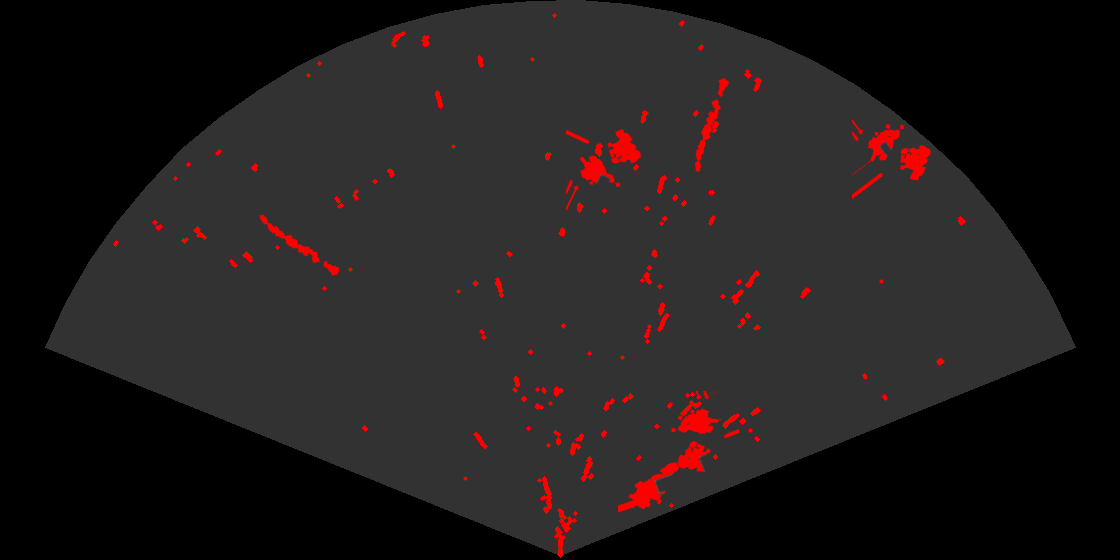cage: (852, 118, 932, 201), (566, 127, 643, 212), (669, 391, 739, 474)
chain: (258, 213, 341, 277), (693, 76, 731, 174)
frogman: (618, 457, 686, 514)
